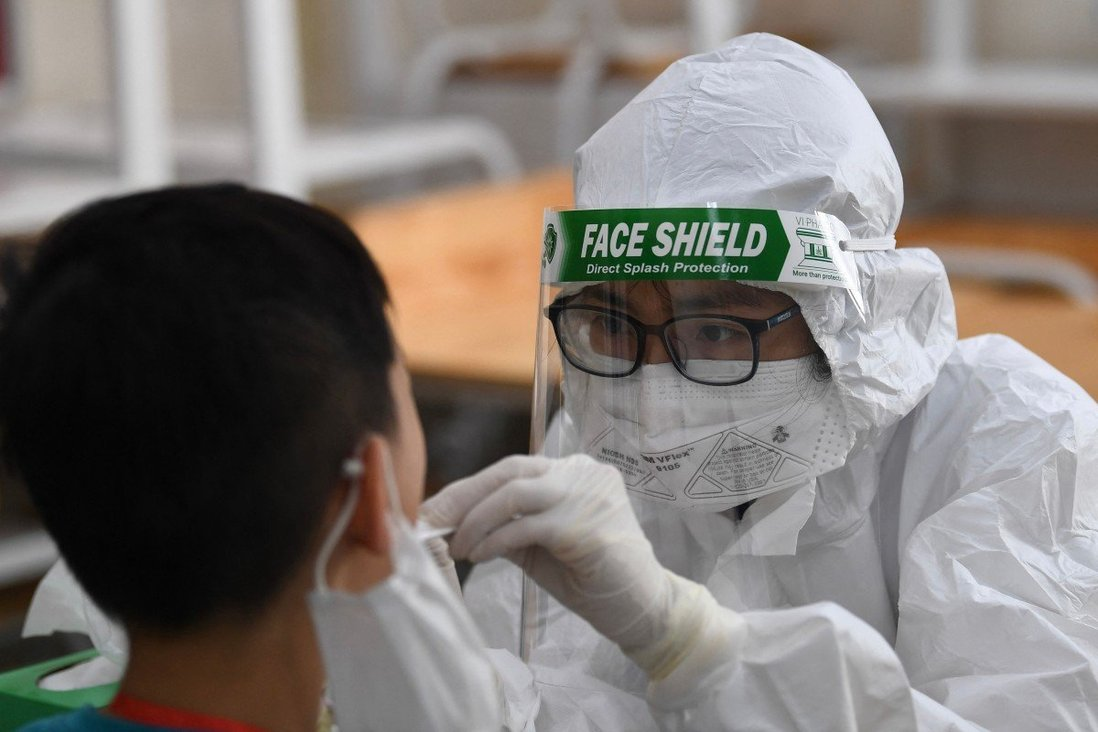Face_Shield: (524, 200, 858, 588)
Gloves: (412, 436, 719, 687)
with_mask: (563, 305, 849, 513)
